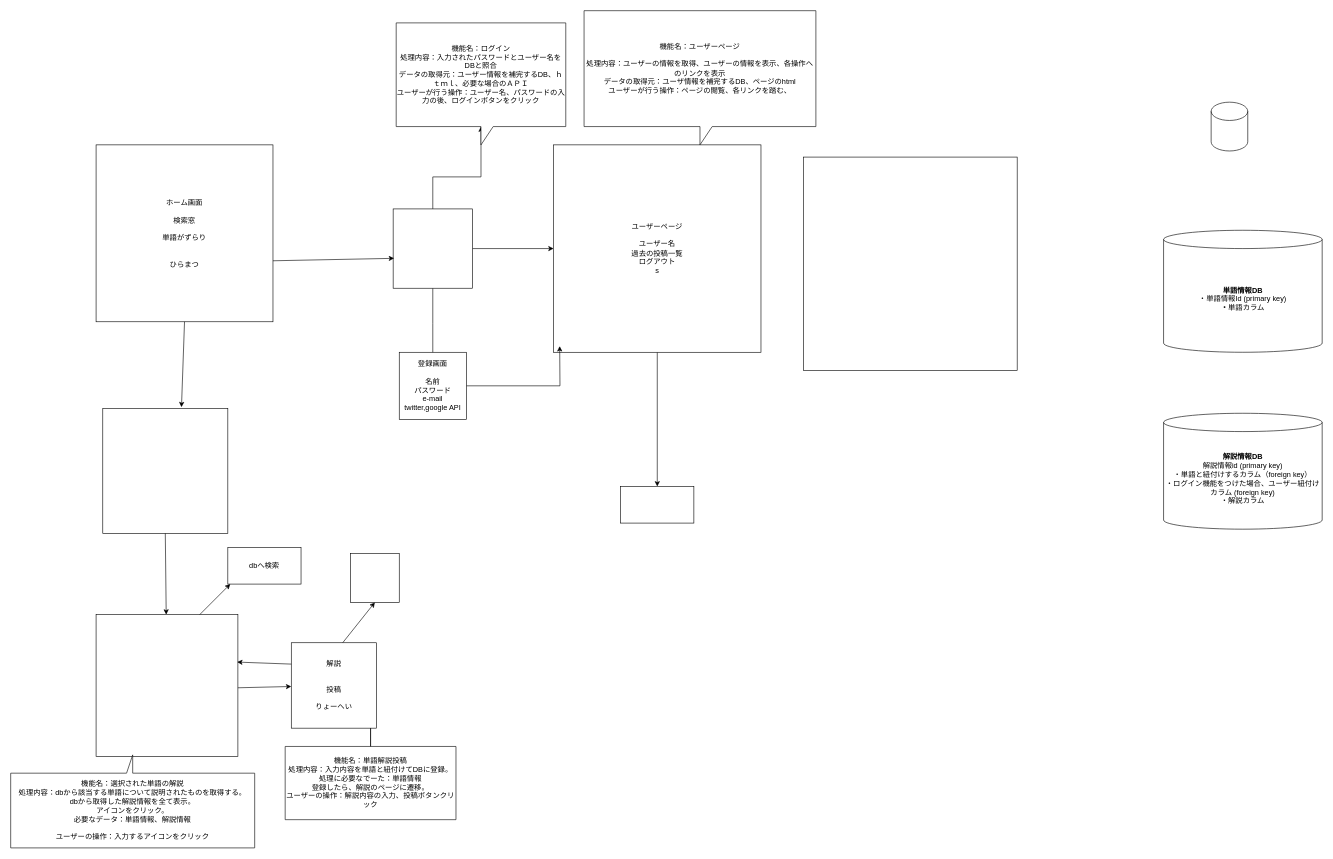
Some shapes in this 1333 by 859 pixel diagram are drawn without their labels. Here are the shapes that lost their labels. From the top down, the centre of each, then its label:
At point 432,248: "ログイン パスワード ユーザー名 ひろみ".
At point 910,263: "機能名 処理内容 処理に必要なデータ データの取得元 ユーザーが行い操作".
At point 165,470: "単語 解説 解説 解説 ひらまつ".
At point 657,504: "ログインした状態".
At point 374,577: "dbへ登録".
At point 166,685: "単語の解説 書き込むアイコン りょーへい".
